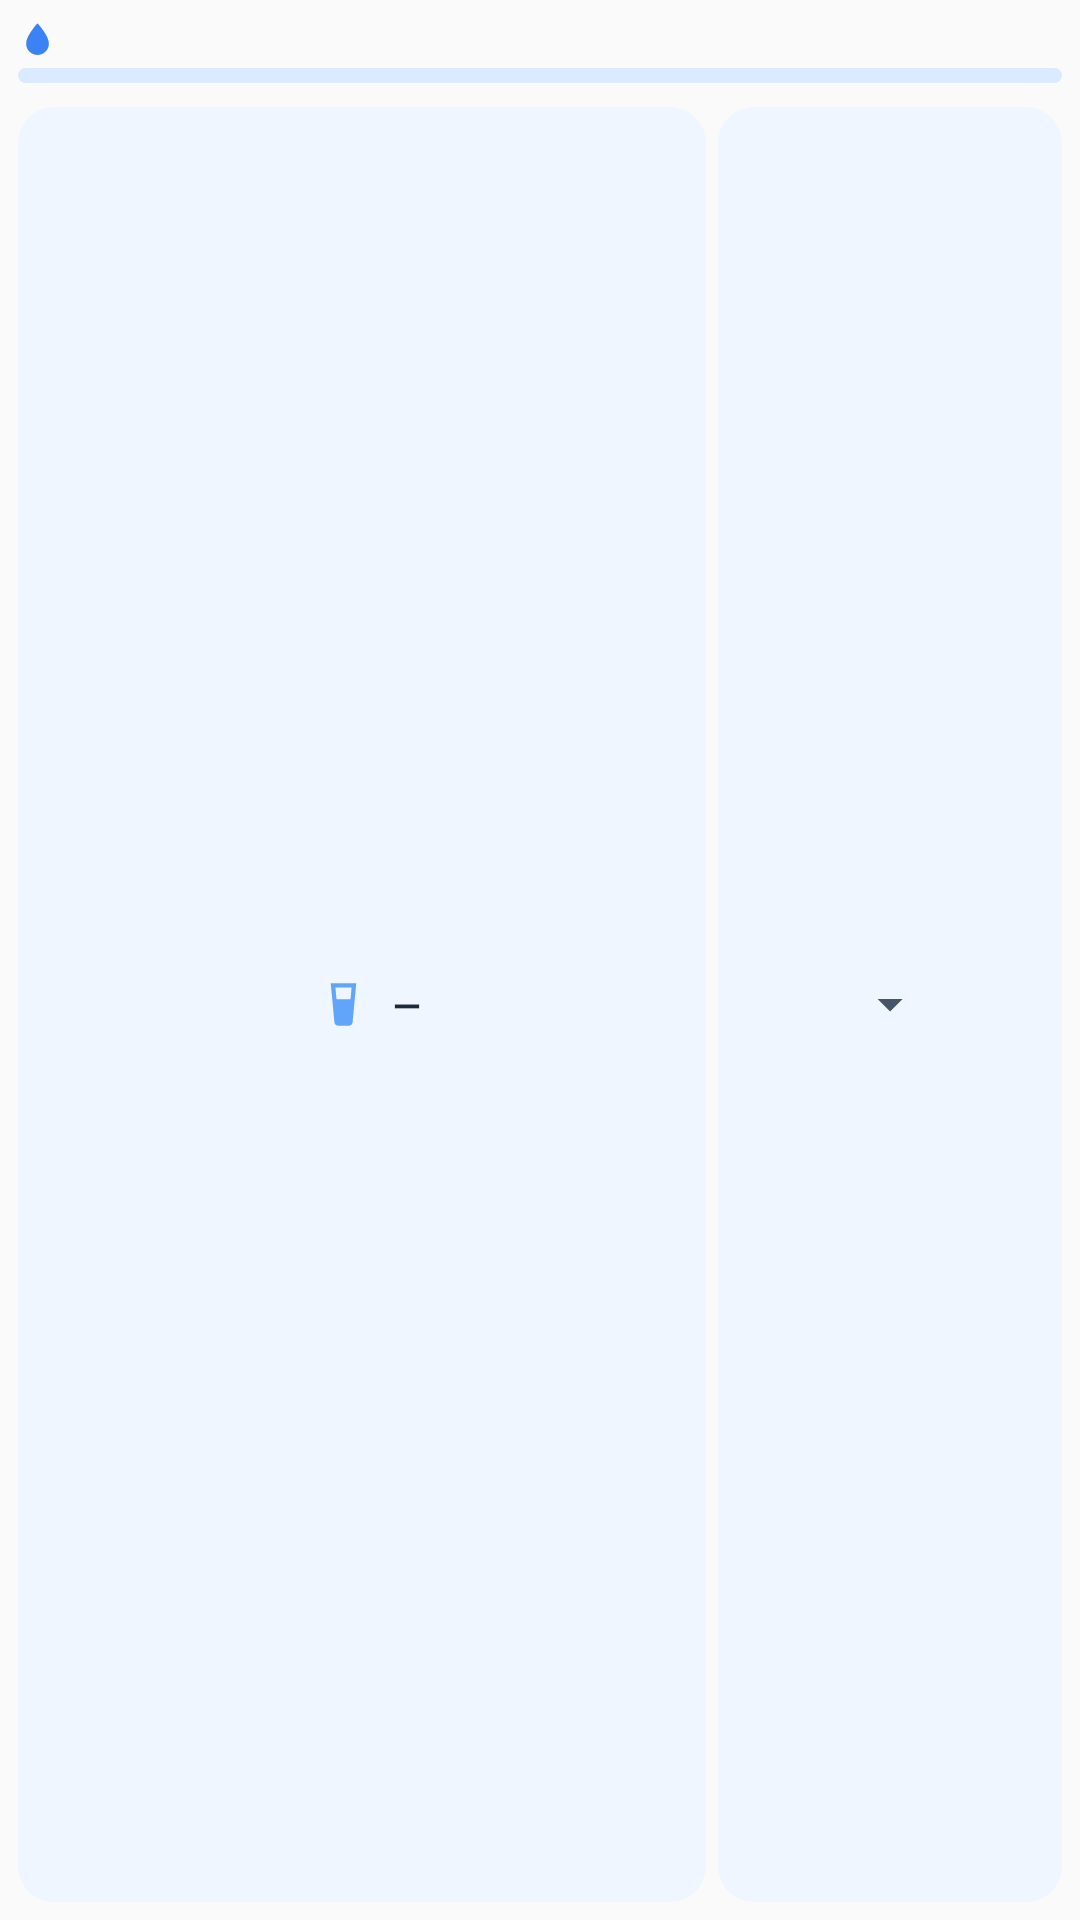

Where to tap for icons on this 1080px x 1920px app screen, as (x=x, y=y):
widget bicchiere: (x=343, y=1004)
widget freccia: (x=890, y=1005)
widget goccia: (x=37, y=39)
